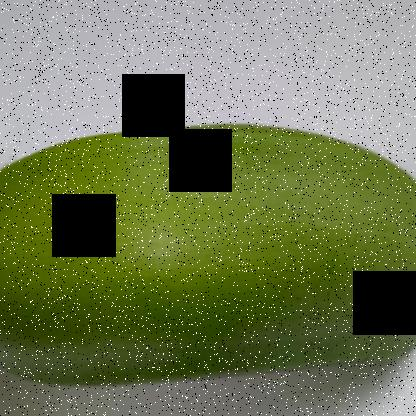freshunripe: (1, 97, 415, 413)
